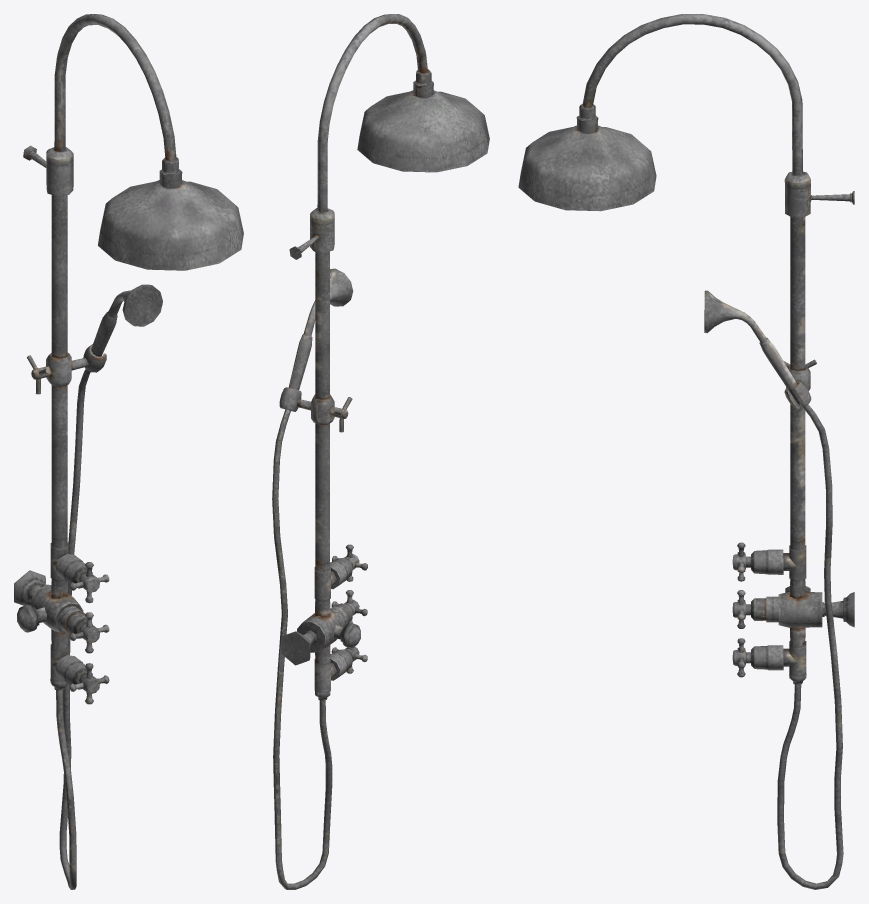
File: 030_showerbath.fbx
3 views of the same model, side by side, from view 1: azimuth 30°, elevation 25°; view 2: azimuth 150°, elevation 25°; view 3: azimuth 270°, elevation 25° (orthographic). The views are drawn at different scales.
Parts seen in each view (by area): view 1: LOD_1_Group_0_Sub_1__sm31_030_ShowerBath01A_A_Mat; view 2: LOD_1_Group_0_Sub_1__sm31_030_ShowerBath01A_A_Mat; view 3: LOD_1_Group_0_Sub_1__sm31_030_ShowerBath01A_A_Mat.
Boxes of the visible parts, <box> form: LOD_1_Group_0_Sub_1__sm31_030_ShowerBath01A_A_Mat: <box>14,14,243,889</box>; LOD_1_Group_0_Sub_1__sm31_030_ShowerBath01A_A_Mat: <box>272,14,489,889</box>; LOD_1_Group_0_Sub_1__sm31_030_ShowerBath01A_A_Mat: <box>518,14,854,889</box>.
Bounding box in the file's own units: 0.3199 × 2.21 × 0.7784.
